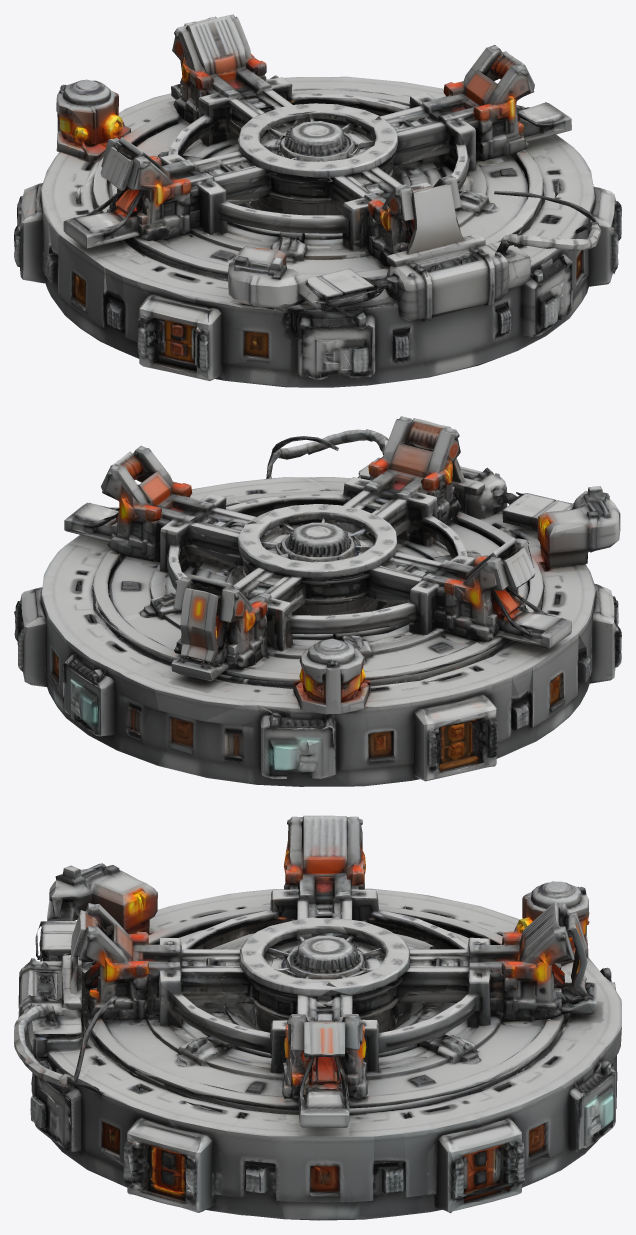
The model's file is repair-platform.glb.
3 renders of one model, top to bottom at view 1: azimuth 30°, elevation 25°; view 2: azimuth 150°, elevation 25°; view 3: azimuth 270°, elevation 25°, orthographic. The views are drawn at different scales.
Visible parts, largest first — view 1: output_unwrapped; view 2: output_unwrapped; view 3: output_unwrapped.
Part boxes in pixels (<box>): output_unwrapped: <box>14,14,621,387</box>; output_unwrapped: <box>14,416,621,786</box>; output_unwrapped: <box>14,815,621,1220</box>.
Bounding box in the file's own units: 1.87 × 0.658 × 1.9.
1 material, 1 textured.
